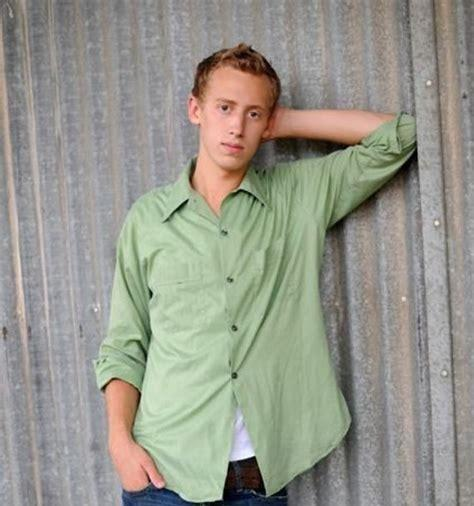shirt: (92, 110, 418, 498)
